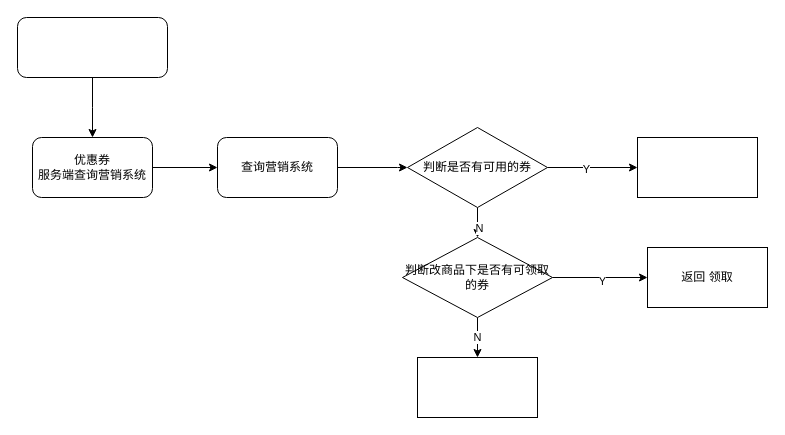
Some shapes in this 785 by 435 pixel diagram are drawn without their labels. The box of each missing label's shape, as (x1, y1, x2, y2) in pixels:
用户进入确认订单页面: (16, 16, 168, 78)
返回 暂无可用: (416, 356, 538, 418)
返回最优券的优惠金额: (636, 136, 758, 198)
